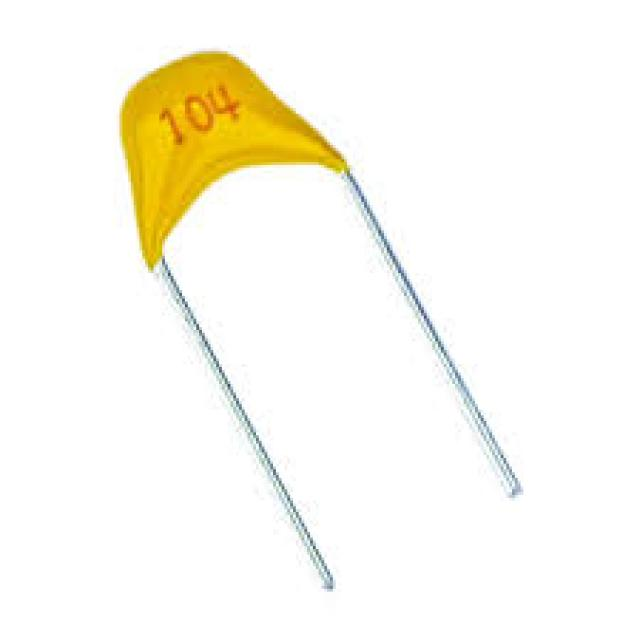Resistor: (117, 54, 350, 270)
